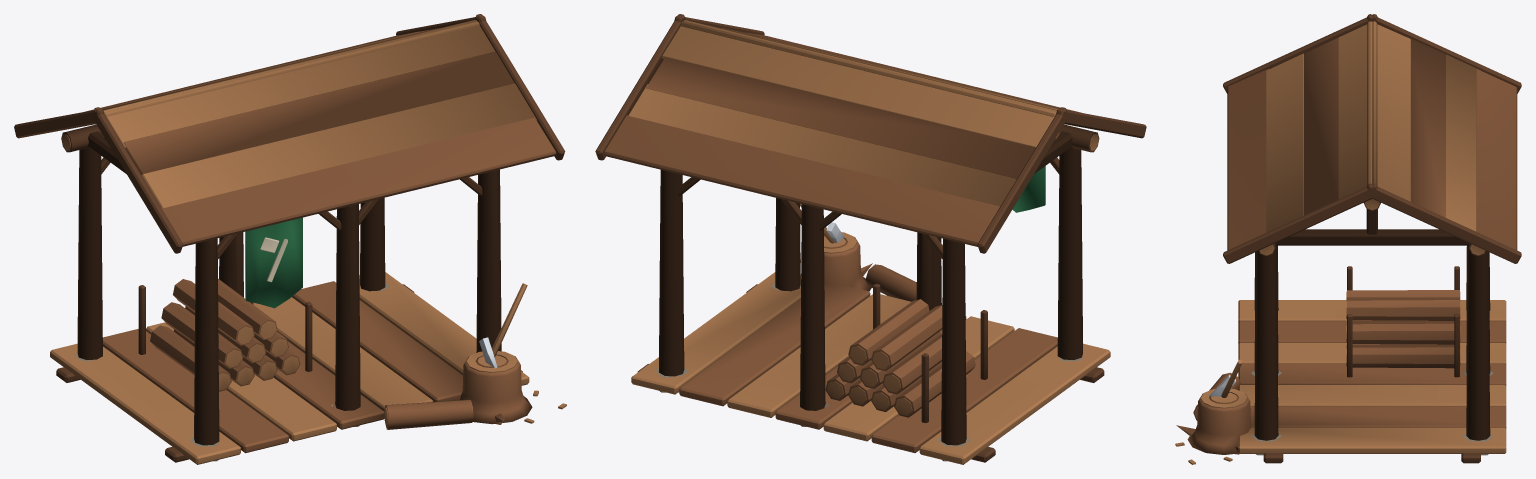
Rendered from camp_lumber.glb.
3 renders of one model, left to right at view 1: azimuth 30°, elevation 25°; view 2: azimuth 150°, elevation 25°; view 3: azimuth 270°, elevation 25°, orthographic. The views are drawn at different scales.
Visible parts, largest first — view 1: LogCanopy; view 2: LogCanopy; view 3: LogCanopy.
Part boxes in pixels (<box>): LogCanopy: <box>14,14,566,464</box>; LogCanopy: <box>595,14,1146,464</box>; LogCanopy: <box>1175,14,1521,464</box>.
Bounding box in the file's own units: 2.89 × 2.28 × 2.46.
1 material, 1 textured.
